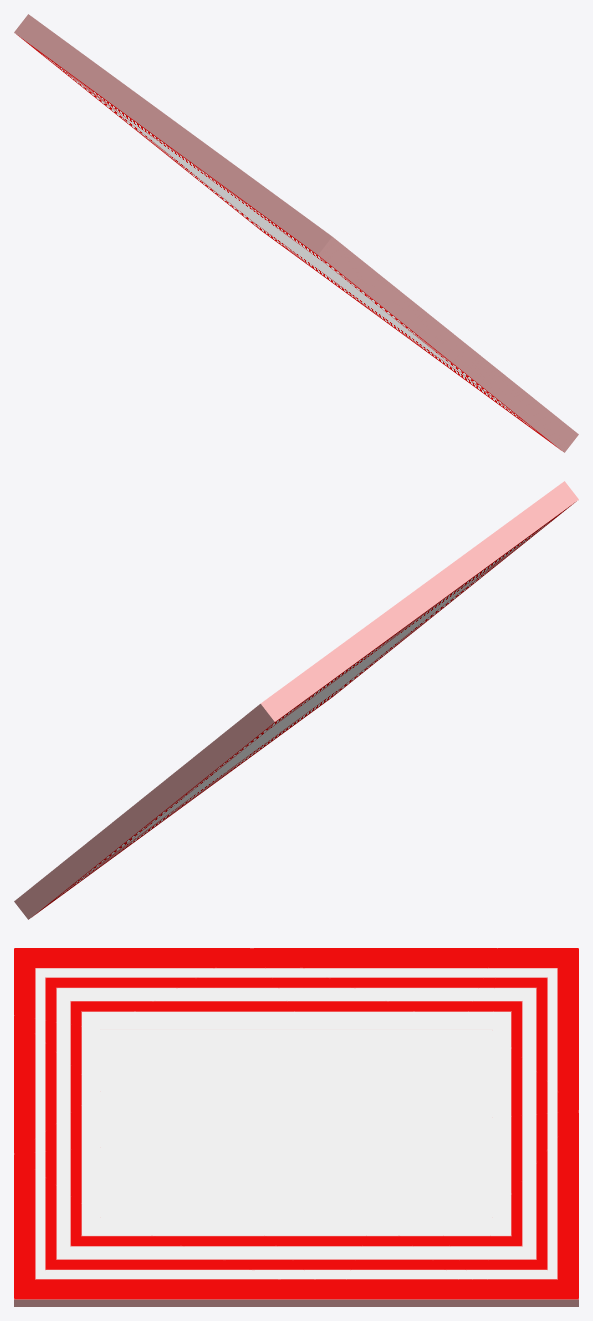
The model's file is PowerDownGlassBroken.fbx.
3 renders of one model, top to bottom at view 1: azimuth 30°, elevation 25°; view 2: azimuth 150°, elevation 25°; view 3: azimuth 270°, elevation 25°, orthographic. The views are drawn at different scales.
Visible parts, largest first — view 1: Glass.008, Glass.002, Glass.006, Glass.009, Glass.003, Glass.004, Glass.007; view 2: Glass.003, Glass.008, Glass.004, Glass.002, Glass.006, Glass.007; view 3: Glass.008, Glass.006, Glass.004, Glass.002, Glass.007, Glass.003, Glass.005, Glass.009, Glass.010.
Part boxes in pixels (left/top/right/bottom): Glass.008: left=190, top=143, right=379, bottom=307; Glass.002: left=58, top=46, right=249, bottom=213; Glass.006: left=377, top=308, right=578, bottom=452; Glass.009: left=365, top=274, right=476, bottom=370; Glass.003: left=14, top=14, right=219, bottom=191; Glass.004: left=132, top=127, right=308, bottom=265; Glass.007: left=253, top=216, right=389, bottom=324; Glass.003: left=146, top=671, right=318, bottom=813; Glass.008: left=264, top=481, right=578, bottom=738; Glass.004: left=14, top=758, right=237, bottom=919; Glass.002: left=241, top=575, right=450, bottom=755; Glass.006: left=161, top=617, right=431, bottom=822; Glass.007: left=161, top=670, right=358, bottom=822; Glass.008: left=14, top=948, right=370, bottom=1142; Glass.006: left=14, top=1143, right=337, bottom=1306; Glass.004: left=398, top=1111, right=578, bottom=1306; Glass.002: left=252, top=948, right=496, bottom=1126; Glass.007: left=160, top=1127, right=397, bottom=1298; Glass.003: left=418, top=948, right=578, bottom=1123; Glass.005: left=337, top=1167, right=485, bottom=1306; Glass.009: left=14, top=1015, right=158, bottom=1153; Glass.010: left=371, top=1123, right=417, bottom=1166.
Size of the model in its own units: 64.4 by 64.39 by 130.
